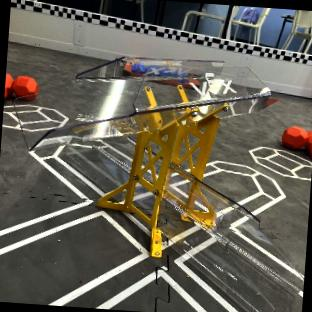Low_goal: (155, 163, 303, 295), (68, 146, 131, 202)
V5_RED: (281, 126, 312, 155), (4, 73, 37, 100)
